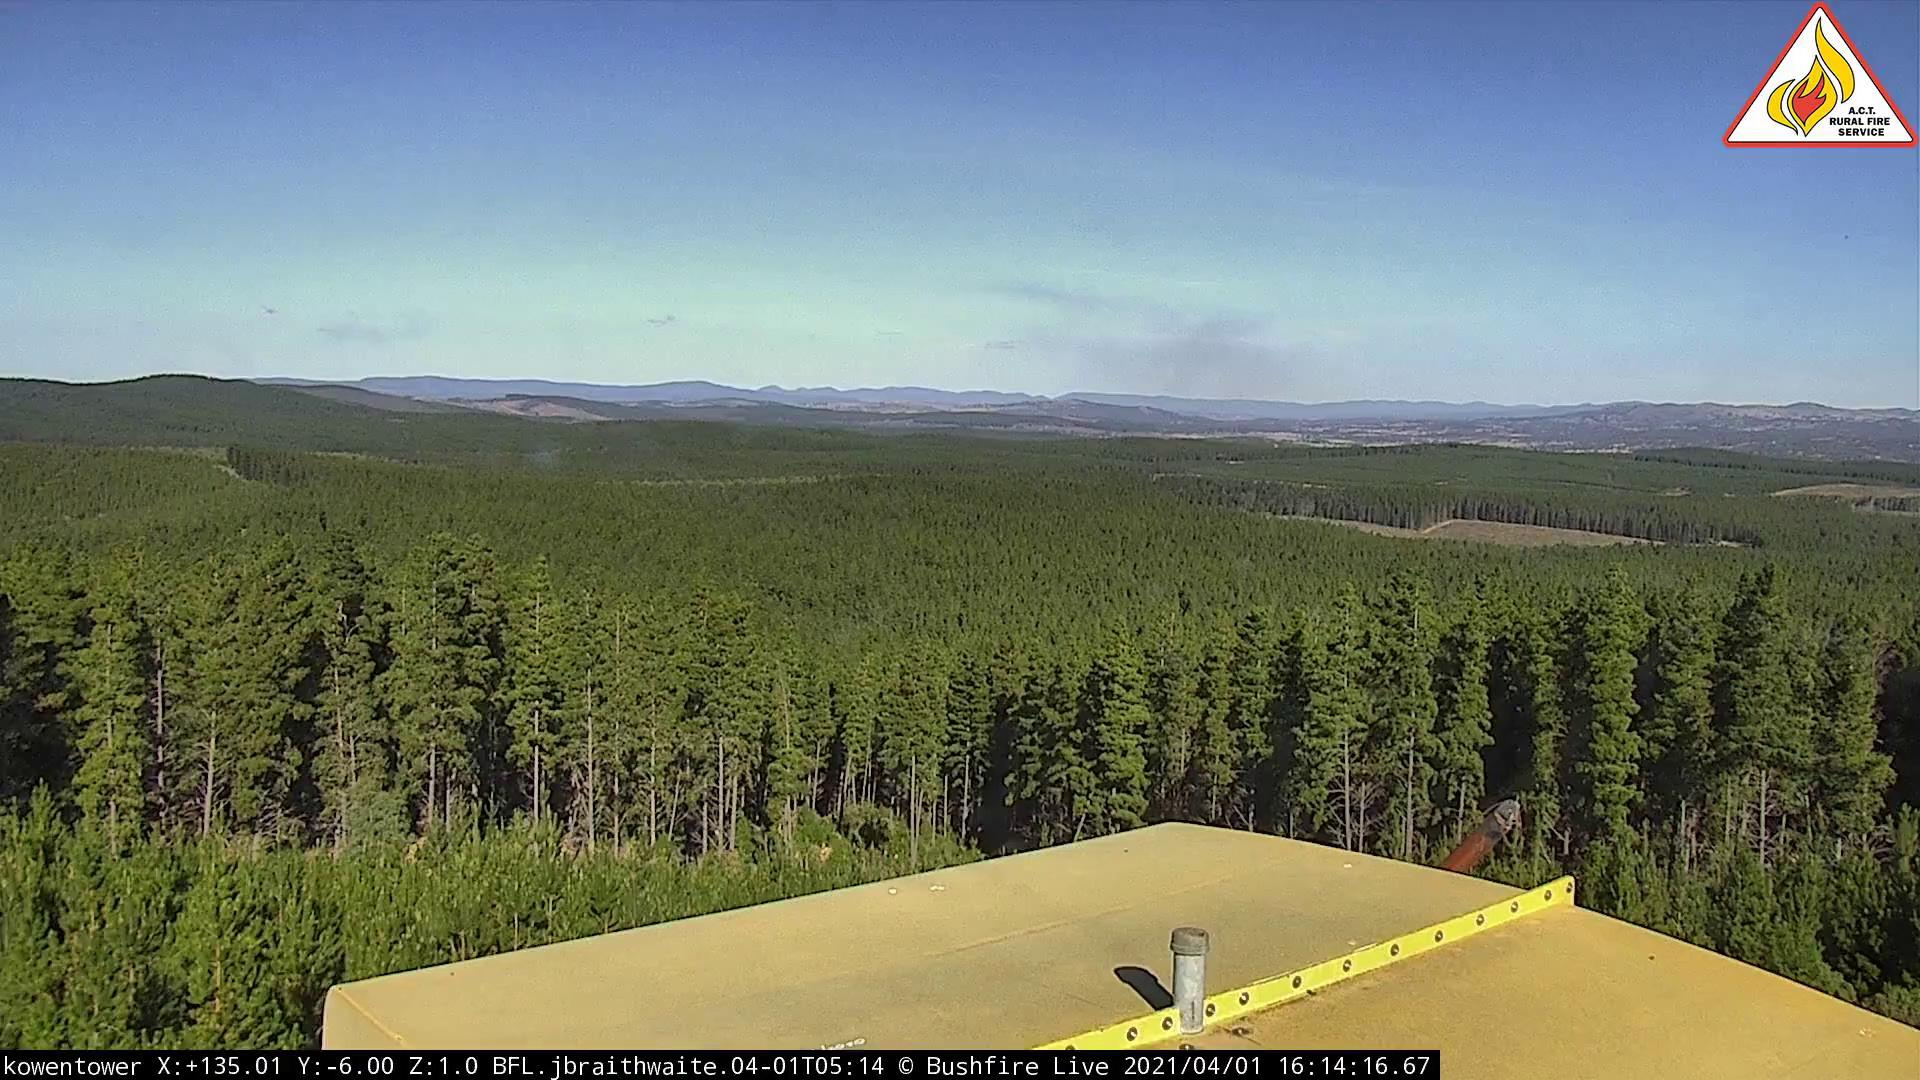Smoke: (996, 305, 1340, 423)
